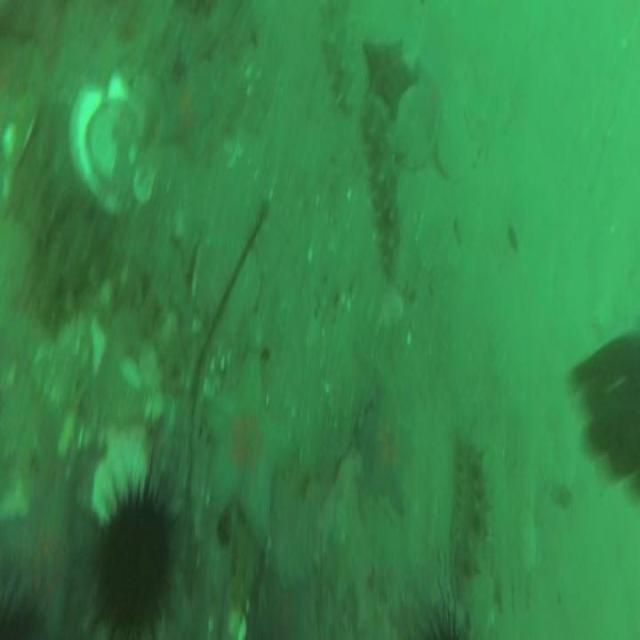echinus: (97, 496, 171, 640)
holothurian: (362, 93, 404, 278), (449, 428, 491, 605), (319, 0, 359, 115)
scallop: (192, 236, 260, 346), (226, 600, 247, 640)
starfish: (205, 348, 290, 552), (3, 468, 94, 637), (354, 384, 415, 515), (160, 71, 212, 160), (362, 40, 417, 110)
